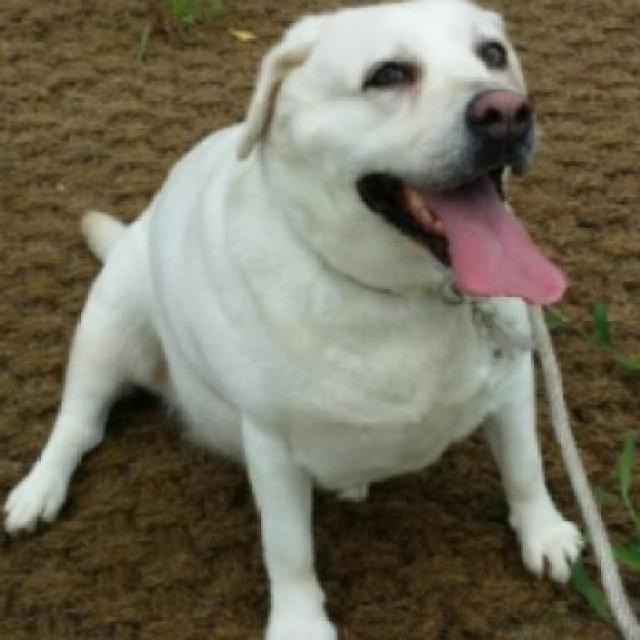Dog: (0, 1, 637, 638)
